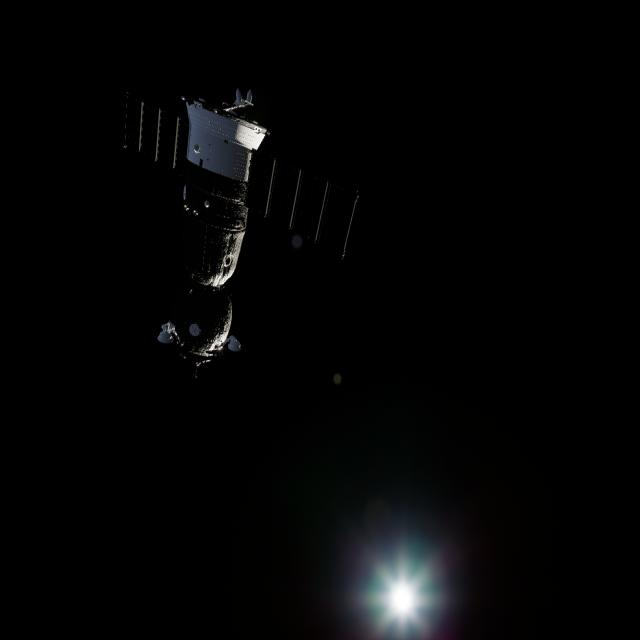Satellites revolving around earth: (117, 82, 361, 373)
